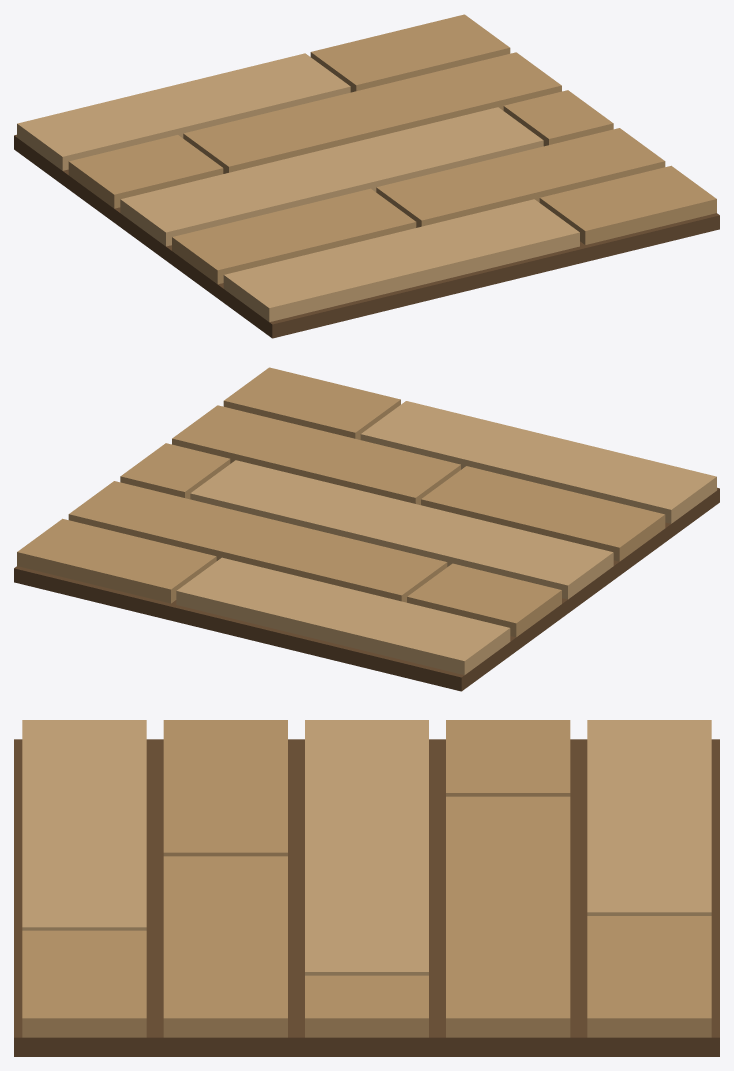
File: boden_deck_a.glb
3 views of the same model, one above another, from view 1: azimuth 30°, elevation 25°; view 2: azimuth 150°, elevation 25°; view 3: azimuth 270°, elevation 25° (orthographic). The views are drawn at different scales.
Visible parts, largest first — view 1: boden_deck_a; view 2: boden_deck_a; view 3: boden_deck_a.
Part boxes in pixels (left/top/right/bottom): boden_deck_a: left=14, top=14, right=719, bottom=338; boden_deck_a: left=14, top=367, right=719, bottom=691; boden_deck_a: left=14, top=720, right=719, bottom=1056.
Size of the model in its own units: 1 by 0.06 by 1.
